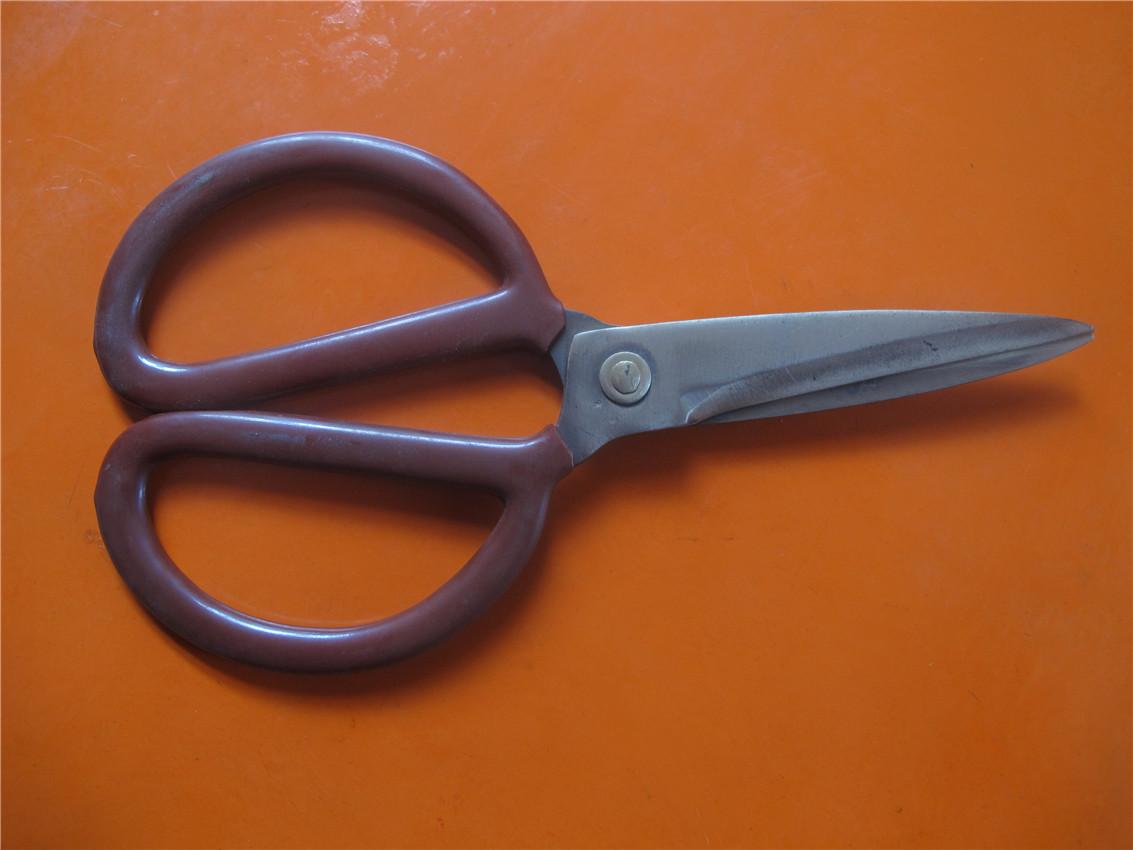scissor: (82, 151, 1041, 667)
